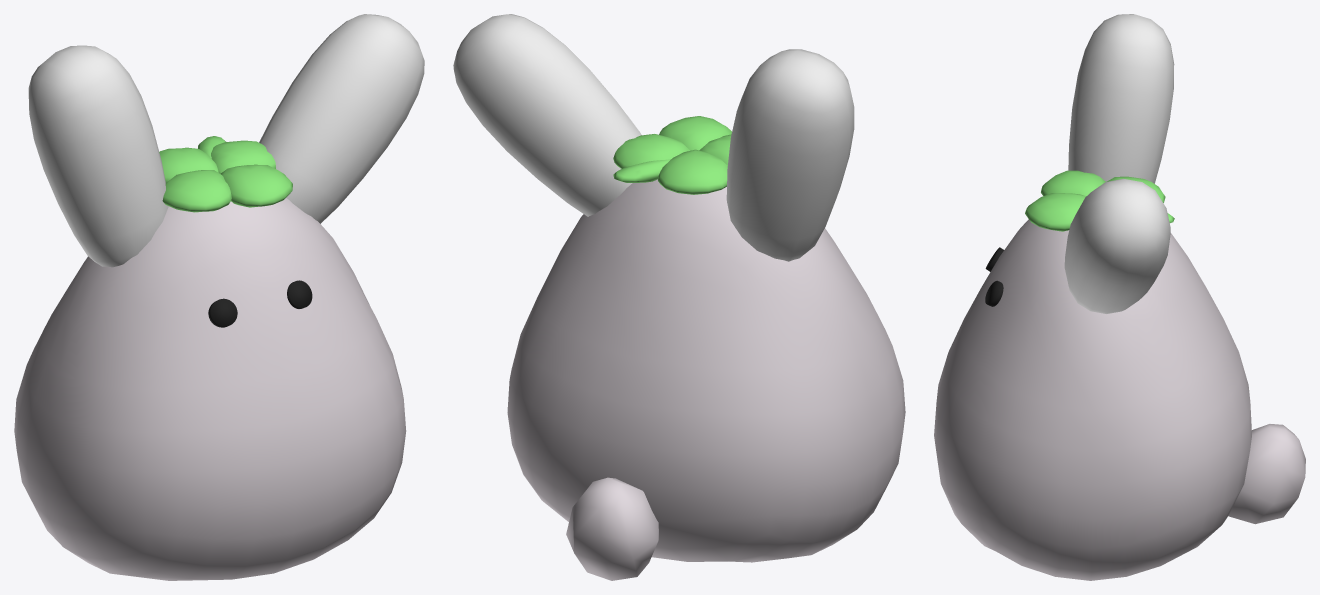
File: rabbit_clover.glb
3 views of the same model, side by side, from view 1: azimuth 30°, elevation 25°; view 2: azimuth 150°, elevation 25°; view 3: azimuth 270°, elevation 25° (orthographic). The views are drawn at different scales.
Visible parts, largest first — view 1: body, ear.01, ear.02, clover.003, clover.001, clover.002, clover, eye.01, eye.02; view 2: body, ear.02, ear.01, tail, clover, clover.002, clover.001, clover.004; view 3: body, ear.01, ear.02, tail, clover.001, clover.003.
Boxes of the visible parts, x1,y1,x2,y2 form: body: (14, 198, 406, 580); ear.01: (28, 45, 168, 267); ear.02: (259, 14, 424, 223); clover.003: (162, 170, 231, 212); clover.001: (221, 164, 292, 207); clover.002: (211, 140, 275, 173); clover: (159, 147, 218, 182); eye.01: (208, 298, 237, 327); eye.02: (287, 280, 312, 308); body: (507, 179, 905, 562); ear.02: (453, 14, 641, 216); ear.01: (726, 49, 854, 261); tail: (566, 477, 658, 580); clover: (658, 149, 727, 194); clover.002: (613, 134, 690, 168); clover.001: (659, 116, 731, 150); clover.004: (613, 159, 671, 182); body: (934, 219, 1251, 580); ear.01: (1068, 14, 1174, 183); ear.02: (1064, 178, 1170, 313); tail: (1228, 424, 1305, 524); clover.001: (1025, 193, 1086, 231); clover.003: (1041, 170, 1105, 195).
Size of what is drawn, in the model's own units: 2.15 by 2.64 by 1.91.
